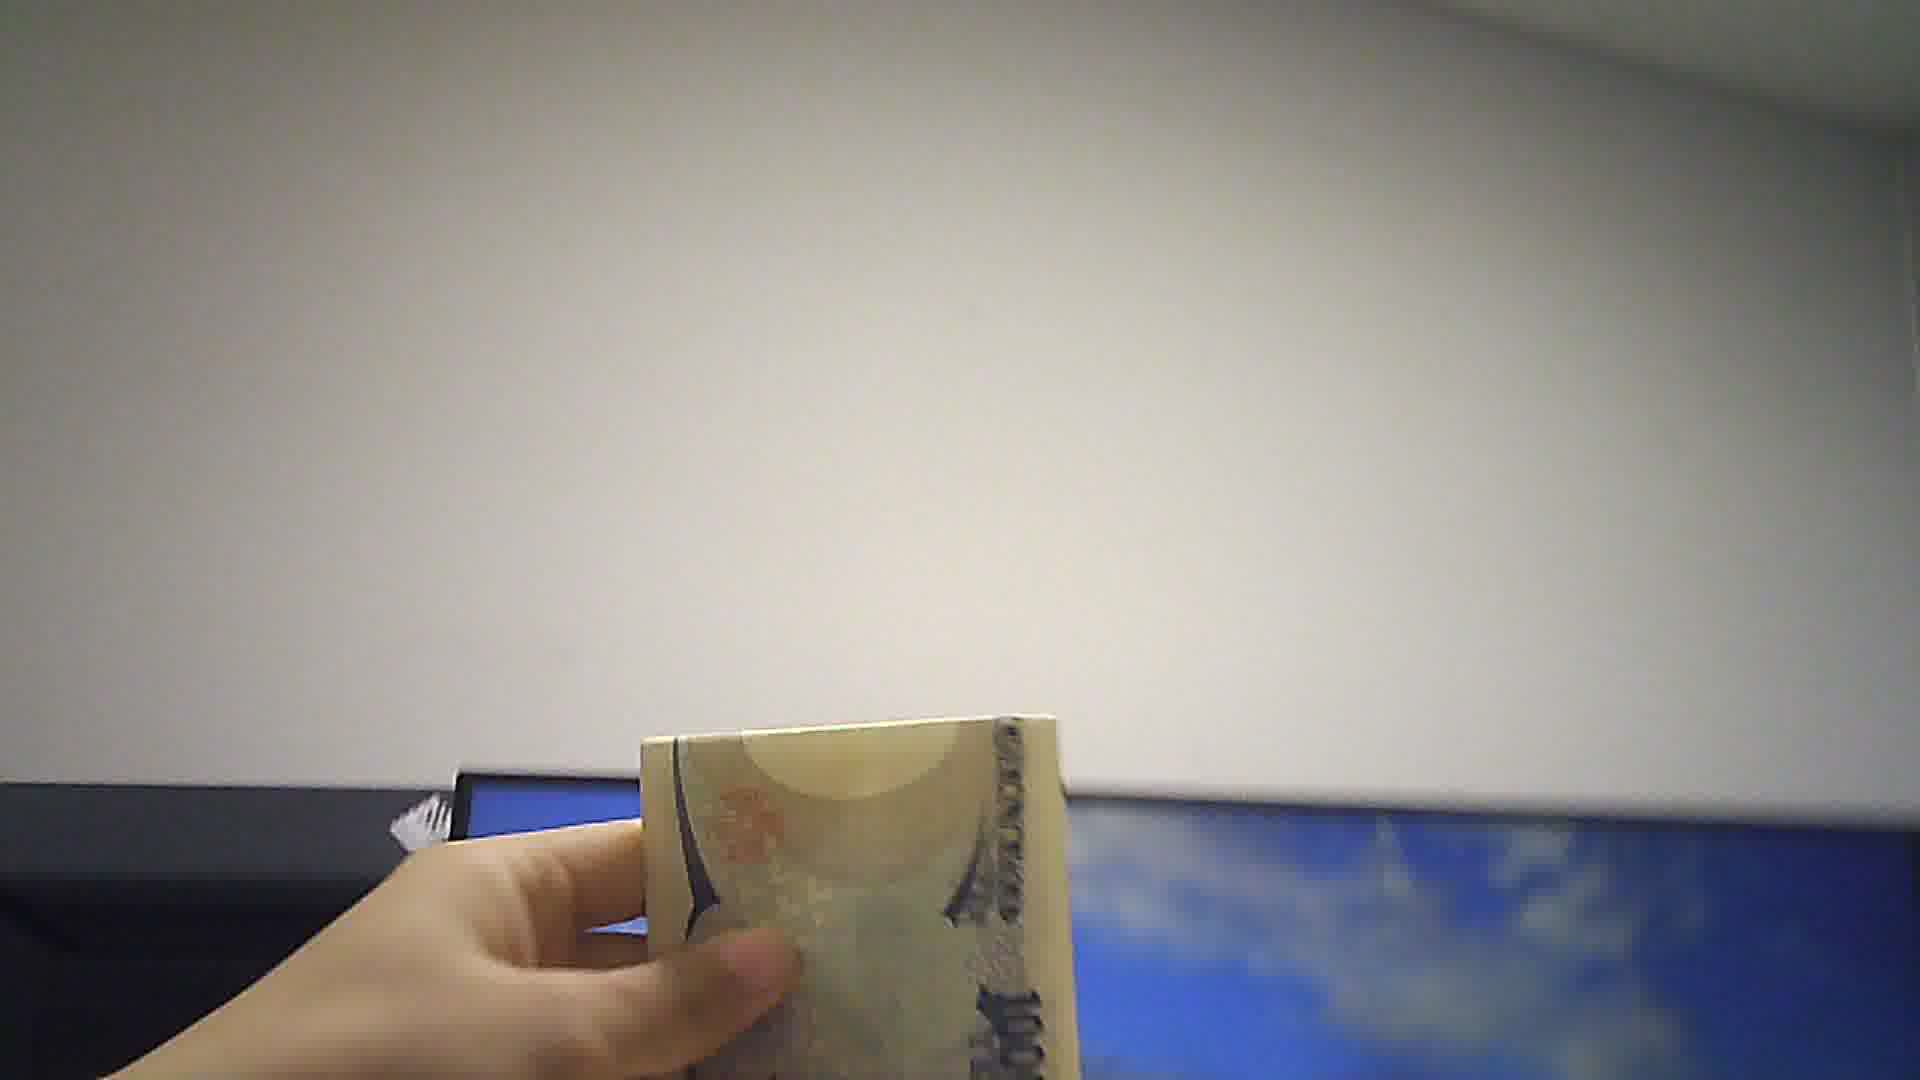1,000 Yen: (637, 705, 1105, 1079)
